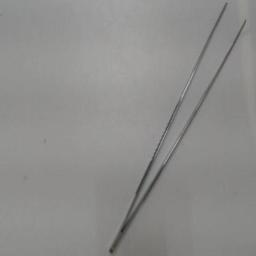DeBakey Dissector: (100, 4, 252, 252)
